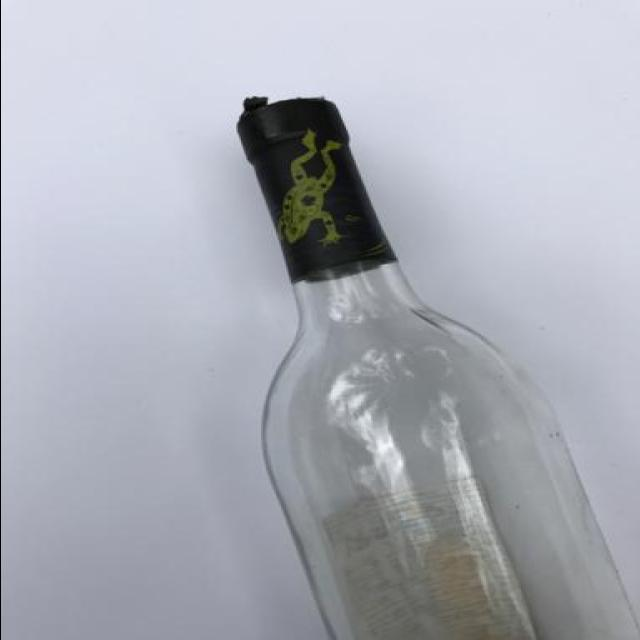glass: (209, 87, 638, 640)
